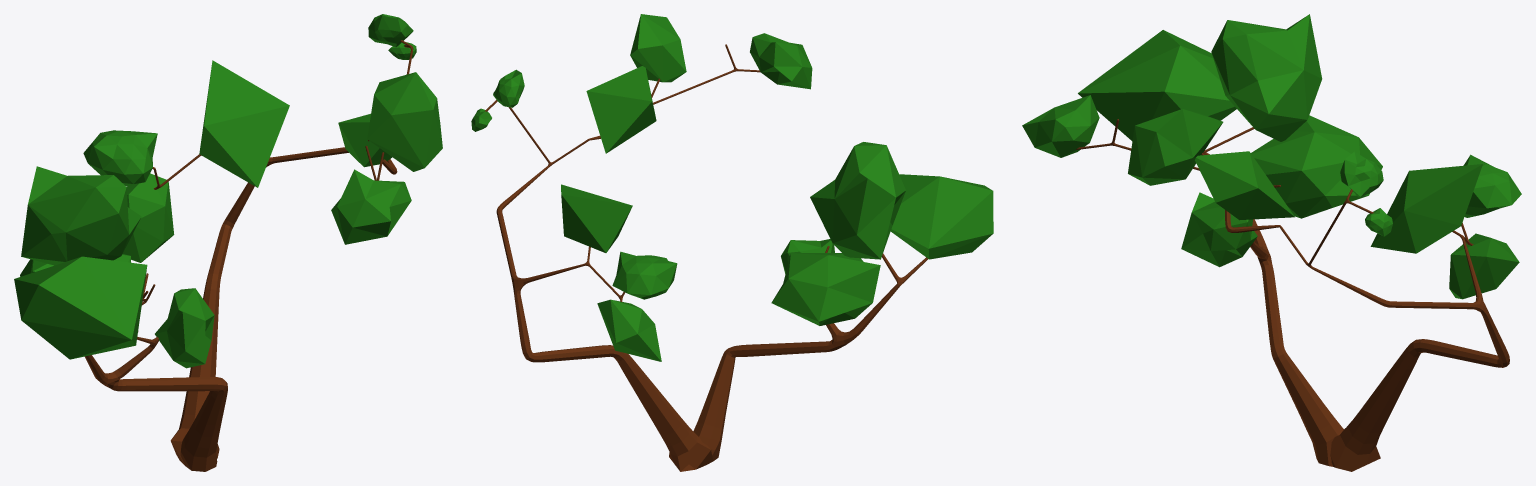
The model's file is derevosykes.fbx.
3 views of the same model, side by side, from view 1: azimuth 30°, elevation 25°; view 2: azimuth 150°, elevation 25°; view 3: azimuth 270°, elevation 25° (orthographic). The views are drawn at different scales.
Visible parts, largest first — view 1: Icosphere.009, Cube, Icosphere.005, Icosphere.008, Icosphere.001, Icosphere, Icosphere.011, Icosphere.006, Icosphere.004, Icosphere.003, Icosphere.002; view 2: Cube, Icosphere.005, Icosphere.009, Icosphere.007, Icosphere.003, Icosphere.008, Icosphere.001, Icosphere.004, Icosphere, Icosphere.006, Icosphere.002, Icosphere.011; view 3: Cube, Icosphere.005, Icosphere.009, Icosphere.007, Icosphere.008, Icosphere.001, Icosphere.003, Icosphere.011, Icosphere, Icosphere.004, Icosphere.006, Icosphere.002 (+1 smaller).
Boxes of the visible parts, left/top/right/bottom form: Icosphere.009: left=14, top=256, right=147, bottom=359; Cube: left=85, top=40, right=413, bottom=471; Icosphere.005: left=21, top=166, right=141, bottom=265; Icosphere.008: left=199, top=60, right=289, bottom=187; Icosphere.001: left=367, top=72, right=442, bottom=171; Icosphere: left=331, top=169, right=411, bottom=244; Icosphere.011: left=155, top=288, right=214, bottom=368; Icosphere.006: left=83, top=130, right=157, bottom=186; Icosphere.004: left=122, top=173, right=174, bottom=262; Icosphere.003: left=338, top=113, right=392, bottom=167; Icosphere.002: left=368, top=14, right=413, bottom=47; Cube: left=485, top=44, right=927, bottom=471; Icosphere.005: left=810, top=142, right=905, bottom=259; Icosphere.009: left=890, top=174, right=993, bottom=259; Icosphere.007: left=771, top=253, right=880, bottom=325; Icosphere.003: left=586, top=66, right=656, bottom=153; Icosphere.008: left=561, top=184, right=632, bottom=252; Icosphere.001: left=630, top=14, right=686, bottom=82; Icosphere.004: left=597, top=299, right=661, bottom=361; Icosphere: left=750, top=33, right=812, bottom=89; Icosphere.006: left=612, top=251, right=677, bottom=299; Icosphere.002: left=493, top=69, right=524, bottom=107; Icosphere.011: left=781, top=239, right=834, bottom=273; Cube: left=1076, top=119, right=1509, bottom=471; Icosphere.005: left=1211, top=14, right=1322, bottom=141; Icosphere.009: left=1078, top=30, right=1236, bottom=141; Icosphere.007: left=1251, top=115, right=1382, bottom=218; Icosphere.008: left=1370, top=164, right=1482, bottom=253; Icosphere.001: left=1128, top=109, right=1223, bottom=185; Icosphere.003: left=1195, top=151, right=1294, bottom=220; Icosphere.011: left=1181, top=192, right=1257, bottom=267; Icosphere: left=1022, top=95, right=1099, bottom=157; Icosphere.004: left=1449, top=233, right=1519, bottom=299; Icosphere.006: left=1463, top=154, right=1521, bottom=217; Icosphere.002: left=1340, top=151, right=1383, bottom=197.
Size of the model in its own units: 2208 by 1780 by 1908.
